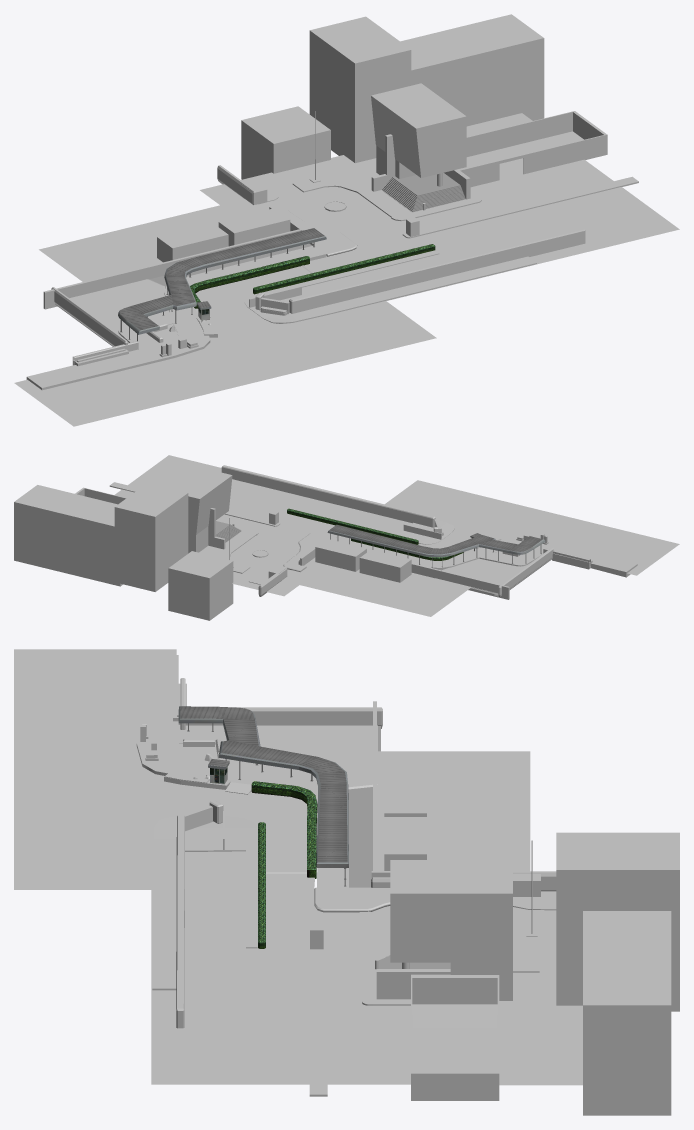
The model's file is entrance 1.fbx.
3 views of the same model, one above another, from view 1: azimuth 30°, elevation 25°; view 2: azimuth 150°, elevation 25°; view 3: azimuth 270°, elevation 25° (orthographic). The views are drawn at different scales.
Parts seen in each view (by area): view 1: polySurface16, b02, B, pasted__pCube5, pCube72, polySurface22, pPlane2, I, polySurface9, polySurface21, polySurface18, pCube29 (+13 smaller); view 2: polySurface16, b02, B, pPlane2, I, polySurface22, polySurface9, pCube72, polySurface21, pCube70, pCube29, pCube62 (+14 smaller); view 3: polySurface16, b02, pPlane2, B, pCube72, pasted__pCube5, polySurface22, polySurface18, polySurface21, pCube29, pCube3, polySurface15 (+11 smaller).
Boxes of the visible parts, x1,y1,x2,y2 form: polySurface16: (14, 113, 679, 426); b02: (400, 14, 544, 126); B: (309, 16, 411, 163); pasted__pCube5: (458, 111, 607, 187); pCube72: (371, 83, 466, 178); polySurface22: (26, 207, 357, 390); pPlane2: (39, 199, 265, 281); I: (241, 106, 330, 179); polySurface9: (289, 227, 585, 313); polySurface21: (118, 228, 326, 334); polySurface18: (244, 250, 536, 323); pCube29: (69, 279, 169, 342); polySurface16: (114, 455, 679, 596); b02: (14, 485, 122, 586); B: (114, 483, 188, 591); pPlane2: (282, 557, 470, 616); I: (168, 551, 233, 620); polySurface22: (283, 532, 637, 577); polySurface9: (221, 465, 435, 527); pCube72: (167, 466, 232, 534); polySurface21: (327, 524, 545, 557); pCube70: (359, 549, 411, 582); pCube29: (435, 558, 529, 596); pCube62: (315, 538, 366, 571); polySurface16: (14, 649, 582, 1085); b02: (583, 911, 671, 1115); pPlane2: (377, 751, 530, 871); B: (556, 832, 679, 1011); pCube72: (390, 860, 512, 962); pasted__pCube5: (411, 974, 499, 1100); polySurface22: (136, 655, 390, 912); polySurface18: (152, 816, 257, 990); polySurface21: (178, 706, 348, 867); pCube29: (178, 725, 377, 789); pCube3: (309, 941, 327, 1096); polySurface15: (185, 707, 382, 728).
Size of the model in its own units: 226 by 40.94 by 141.
